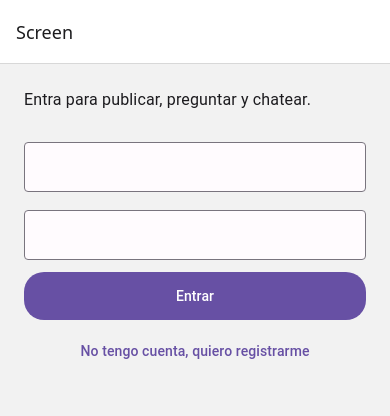
Test case: LoginScreen › un correo mal escrito se ve como error
Type "ana" into the field with test id "login.email". click: (195, 168)
box: [24, 144, 366, 192]
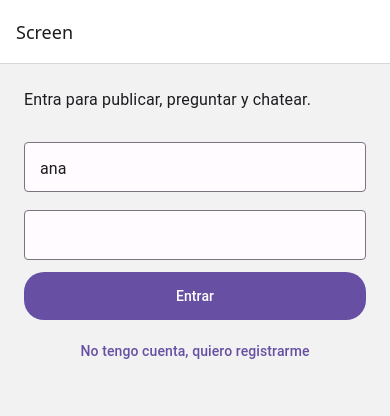
Click the button with test id "login.submit". click: (195, 296)
box: [24, 272, 366, 320]
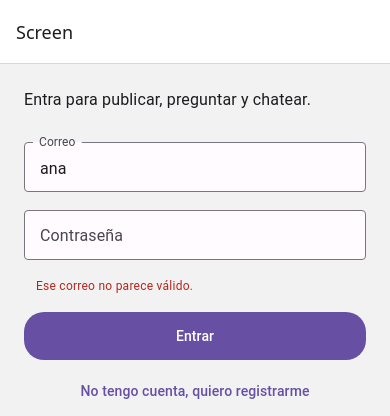
Check: the text "Ese correo no parece válido." is shown, box [36, 279, 193, 293]
